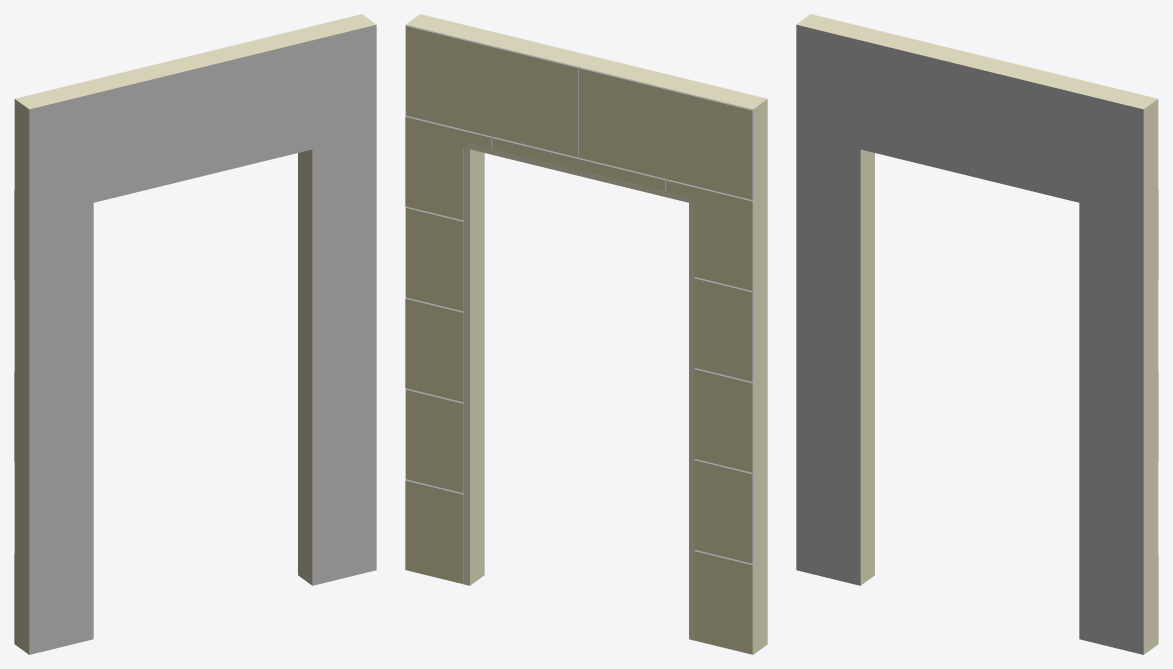
Rendered from ExteriorWall_Door_Str_ExportPrep.gltf.
The picture shows the model from 3 angles, left to right: view 1: azimuth 30°, elevation 25°; view 2: azimuth 150°, elevation 25°; view 3: azimuth 330°, elevation 25°; orthographic projection.
Visible parts, largest first — view 1: ExteriorWall_Door_Str; view 2: ExteriorWall_Door_Str; view 3: ExteriorWall_Door_Str.
Boxes of the visible parts, <box> form: ExteriorWall_Door_Str: <box>14,14,376,654</box>; ExteriorWall_Door_Str: <box>405,14,767,654</box>; ExteriorWall_Door_Str: <box>796,14,1158,654</box>.
Bounding box in the file's own units: 2 × 3 × 0.15.
